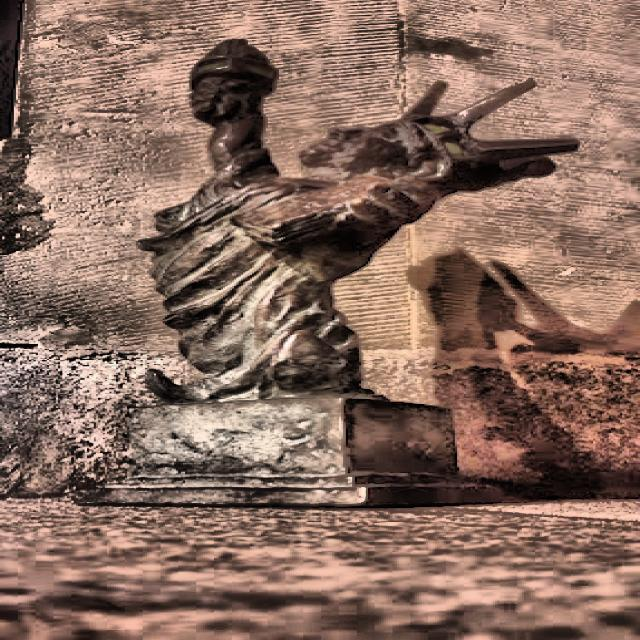LadyWolnosc: (78, 40, 575, 506)
